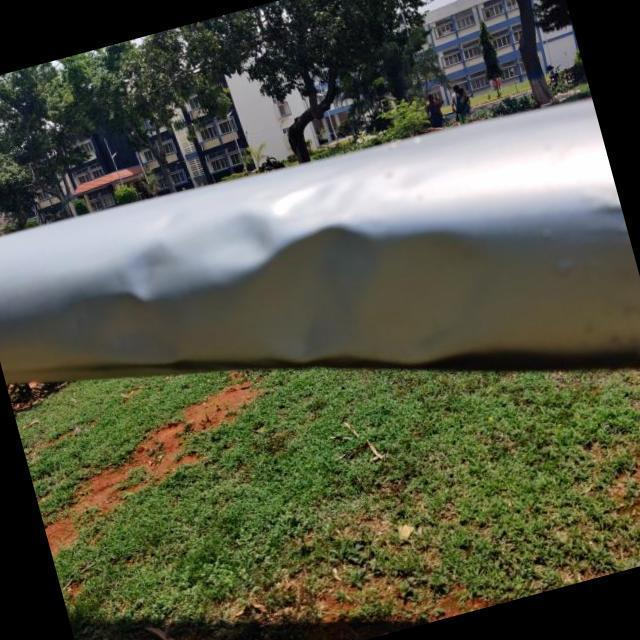Dent: (45, 112, 548, 470)
